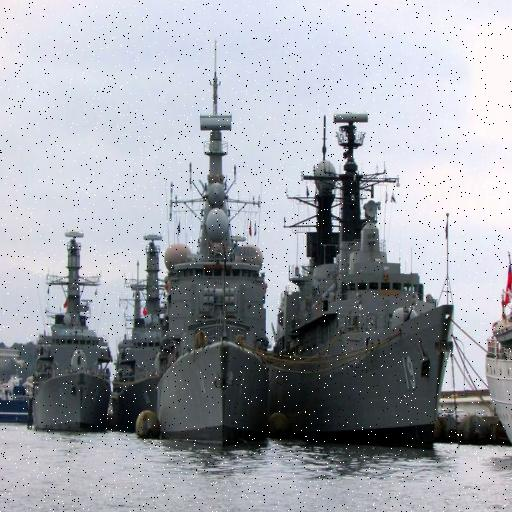Fragata: (271, 99, 469, 459), (155, 33, 279, 451), (26, 211, 114, 439), (108, 221, 173, 435)
